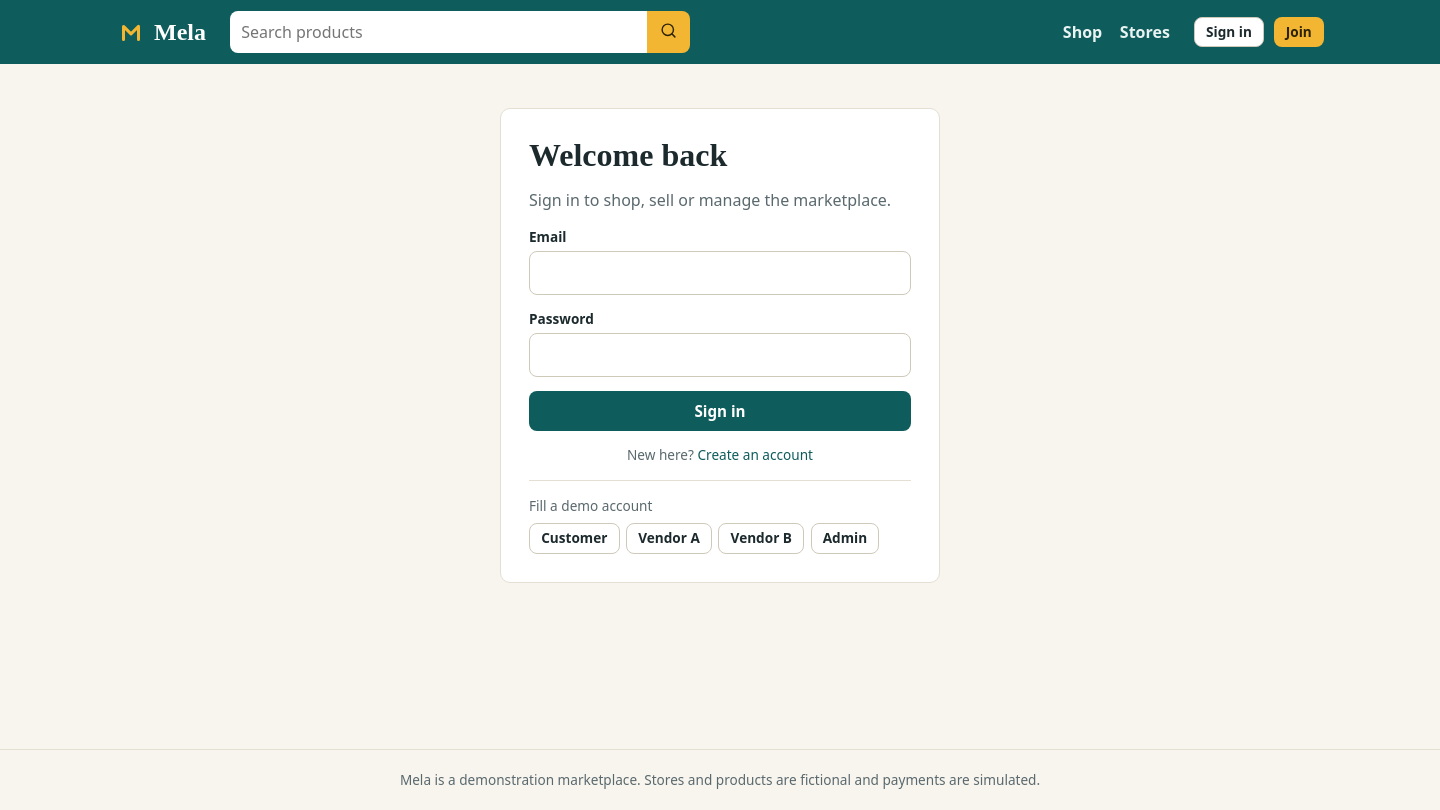
Scenario: login › shows the server error for bad credentials
Type "a@example.com" into the field labelled "Email" at (720, 273), box left=529, top=251, right=911, bottom=294
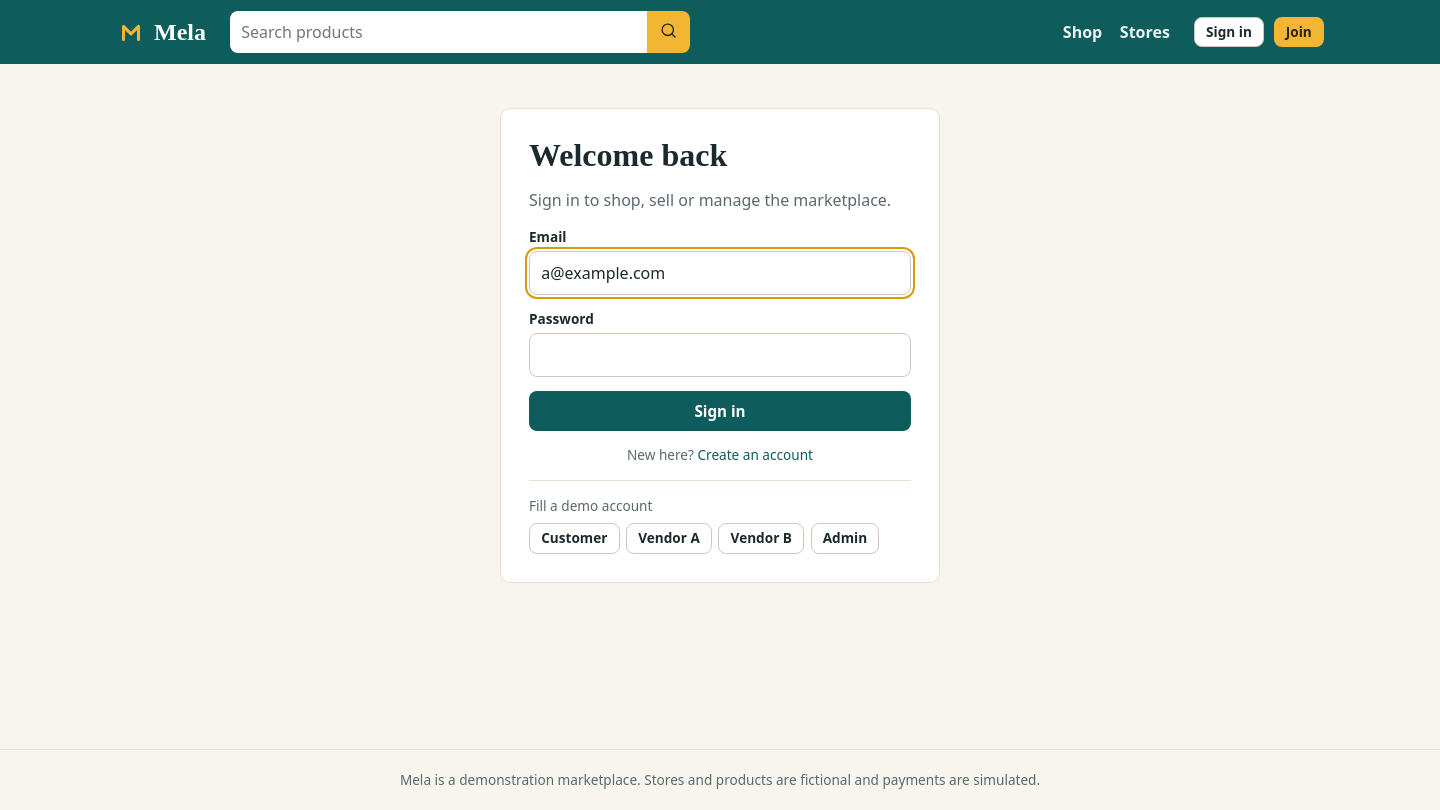
Type "wrong" into the password field labelled "Password" at (720, 355), box left=529, top=333, right=911, bottom=377
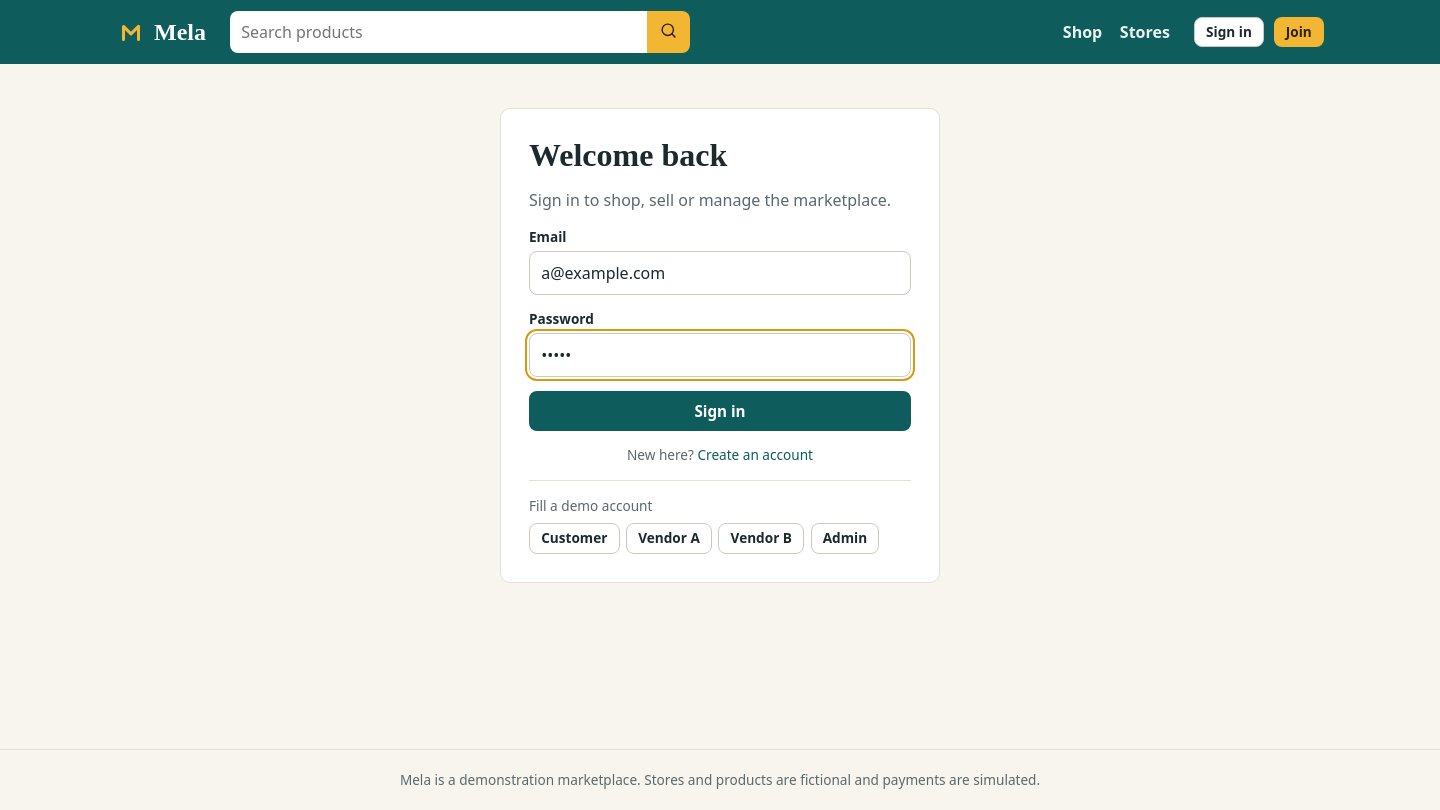
Click the button "Sign in" at (720, 411), box left=529, top=391, right=911, bottom=431
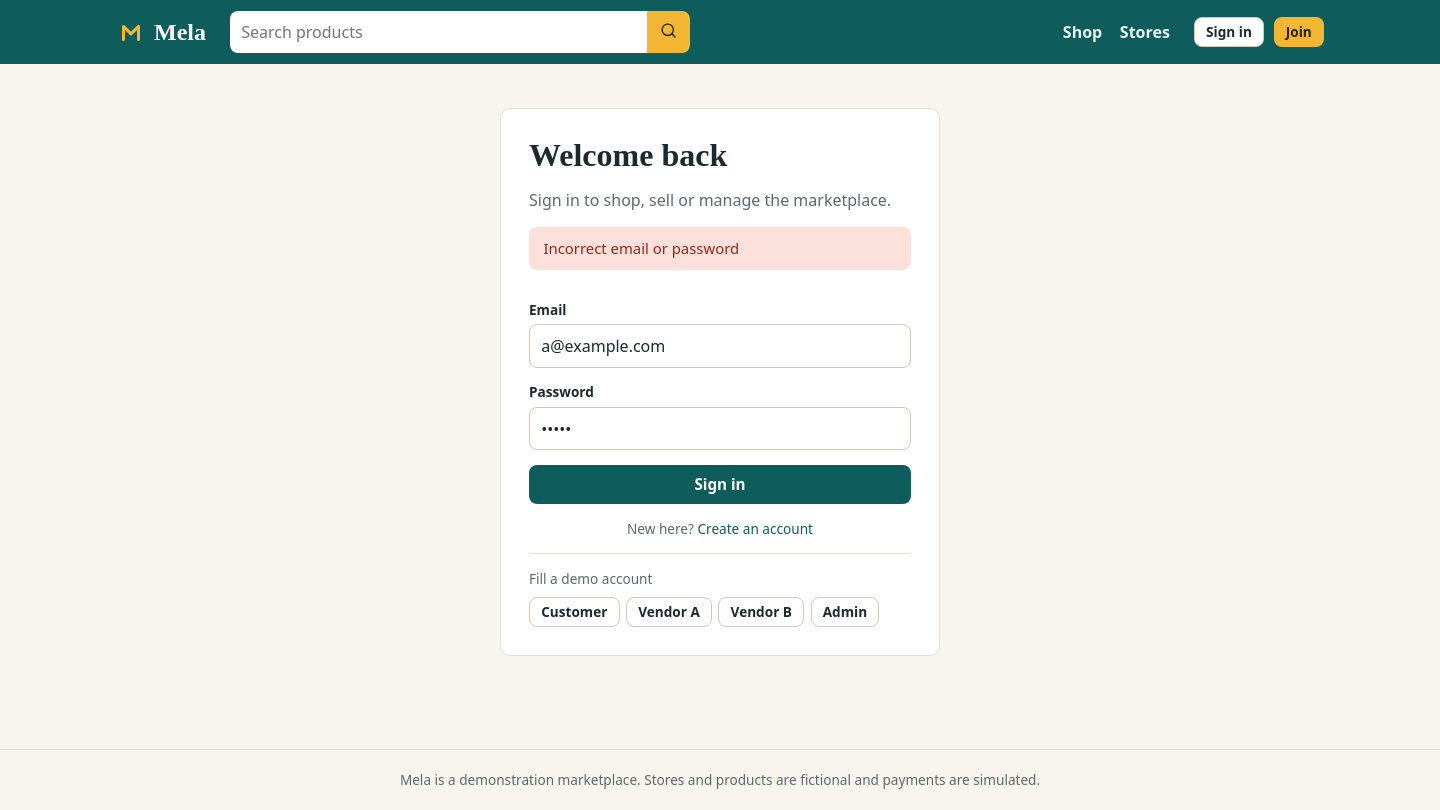
Check: the message reads "Incorrect email or password", box left=543, top=238, right=739, bottom=258
